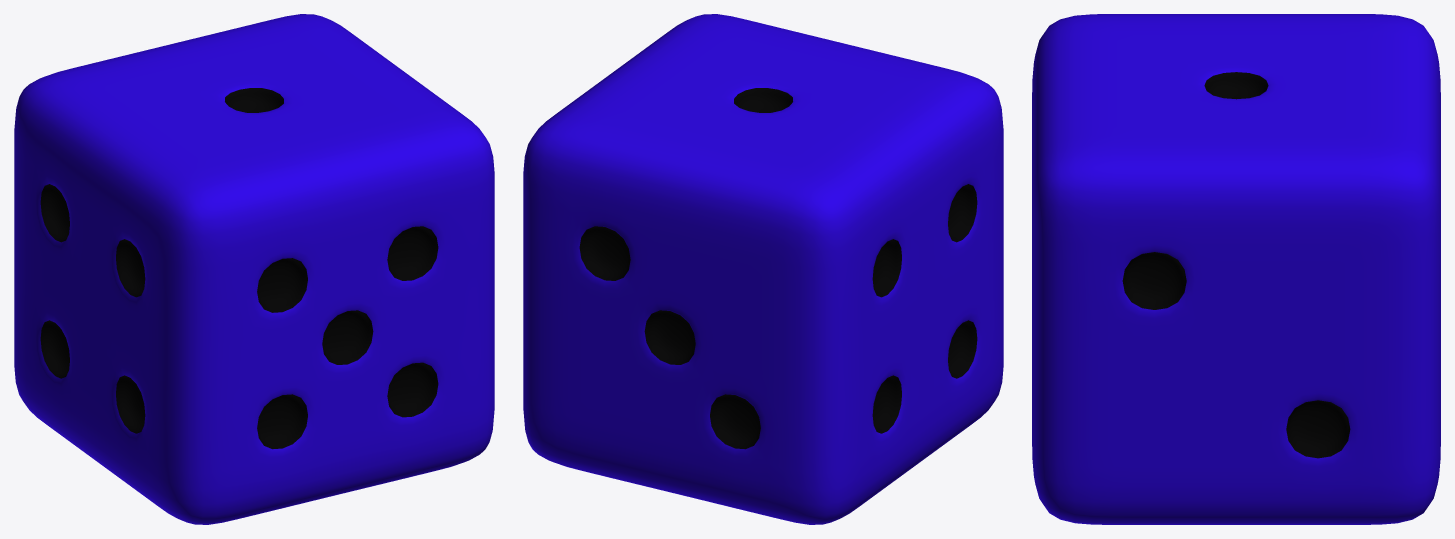
File: modelo.glb
3 renders of one model, left to right at view 1: azimuth 30°, elevation 25°; view 2: azimuth 150°, elevation 25°; view 3: azimuth 270°, elevation 25°, orthographic. The views are drawn at different scales.
Parts seen in each view (by area): view 1: Cube; view 2: Cube; view 3: Cube.
Part boxes in pixels (x1,y1,x2,y2): Cube: [14, 14, 494, 524]; Cube: [523, 14, 1003, 524]; Cube: [1032, 14, 1440, 524].
Bounding box in the file's own units: 2 × 2 × 2.
